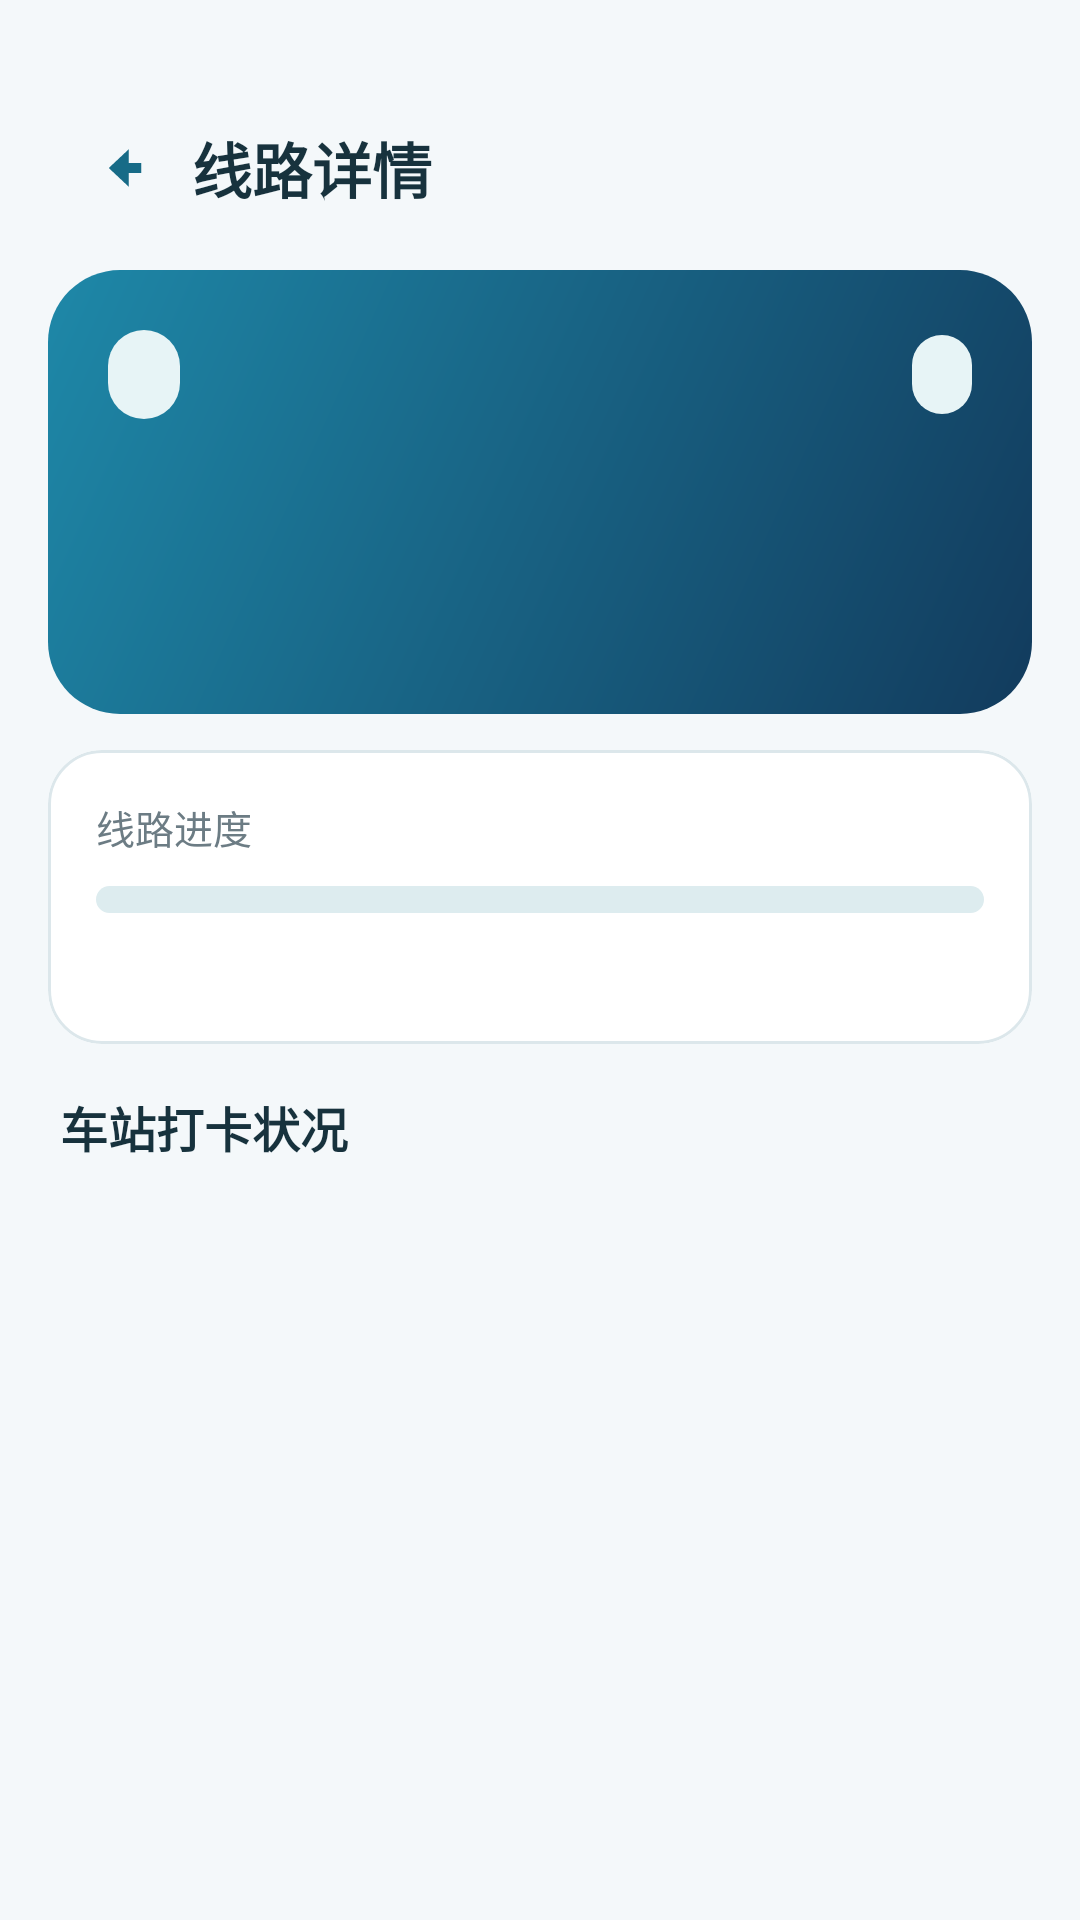

Locate icon controls on the screen. Image size 1080px×1920px, boxes as (x1, y1, x2, y2).
返回: (109, 149, 142, 187)
